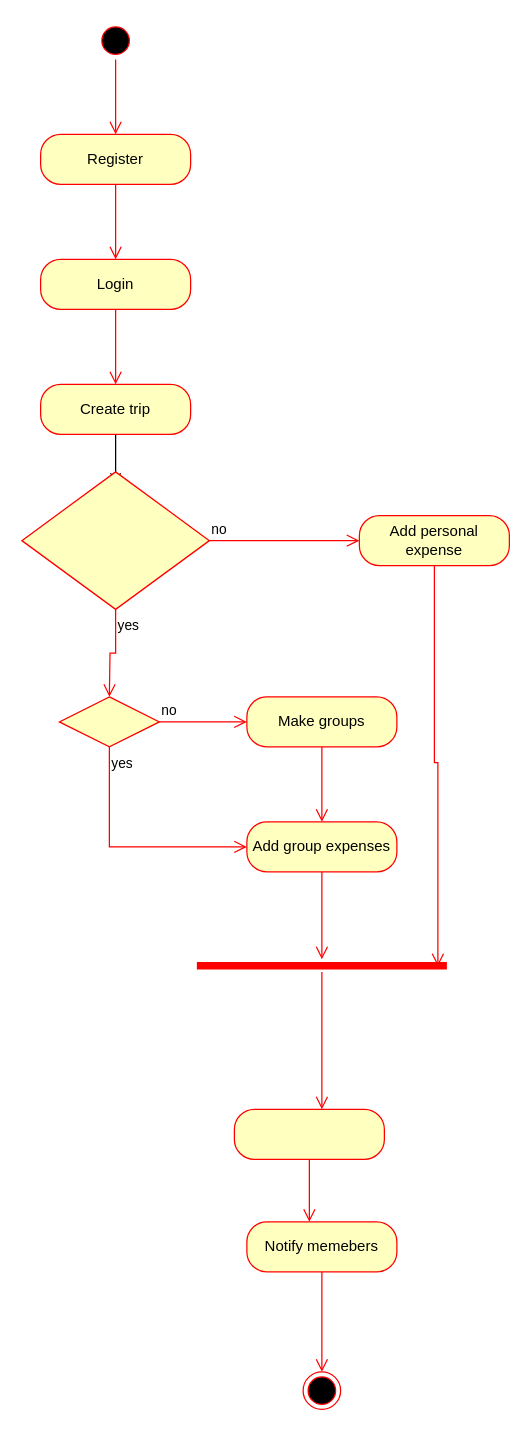
Some shapes in this 531 by 1431 pixel diagram are drawn without their labels. Each missing label, with the centre of its shape:
"Add memeber?" belongs at point (115, 540).
"Calculate expenses" belongs at point (308, 1133).
"Is group full?" belongs at point (108, 721).
